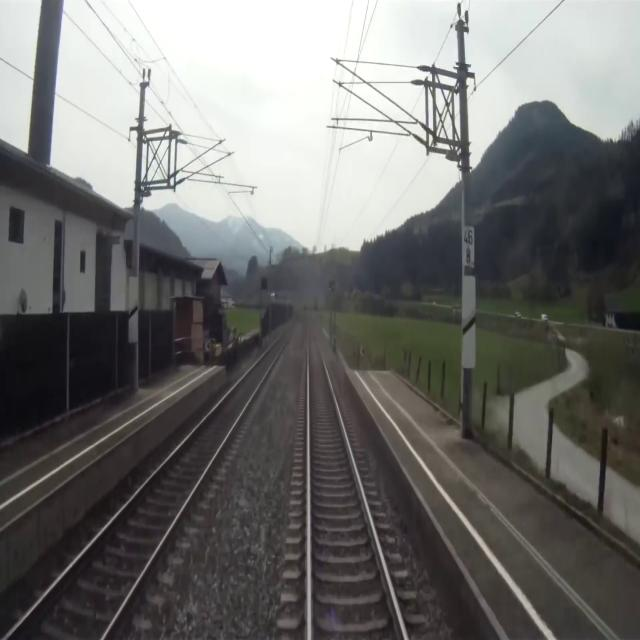rail-track: (8, 315, 300, 639), (309, 314, 403, 639)
